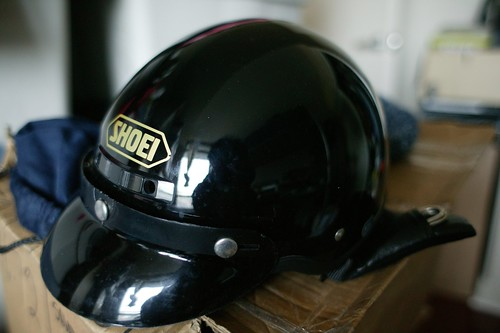helmet: (82, 24, 404, 267)
